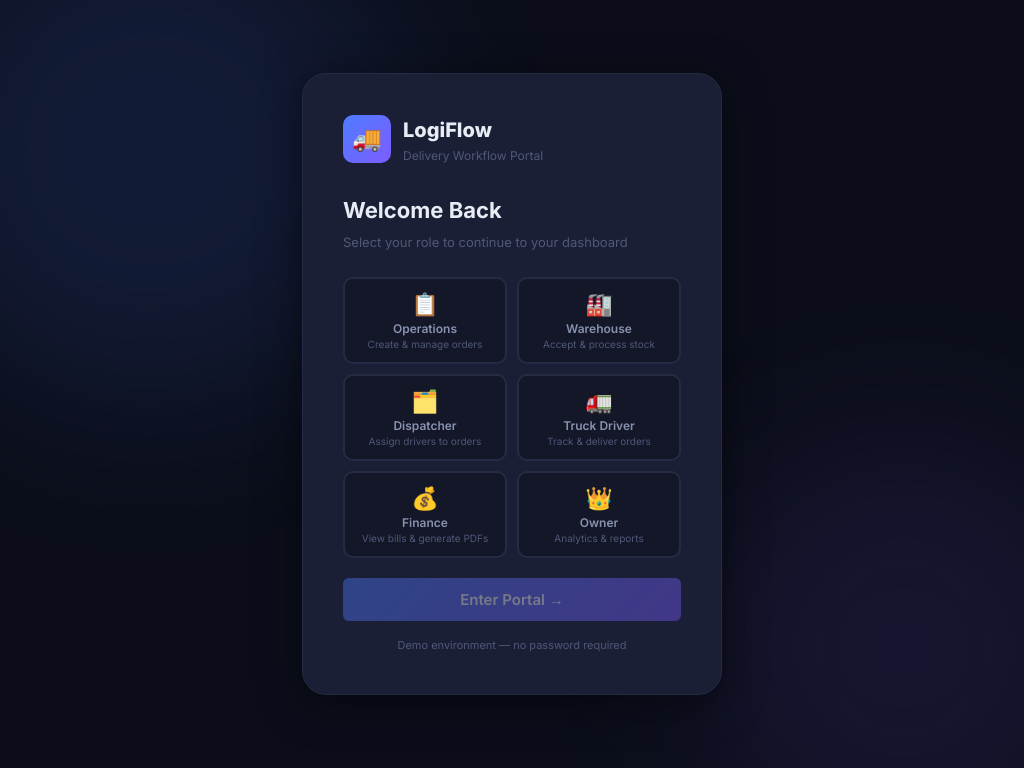
Test: Login Page › shows the matched demo user name after selecting a role
Click the button "🏭 Warehouse Accept & process stock". click: (599, 320)
box: [517, 277, 681, 364]
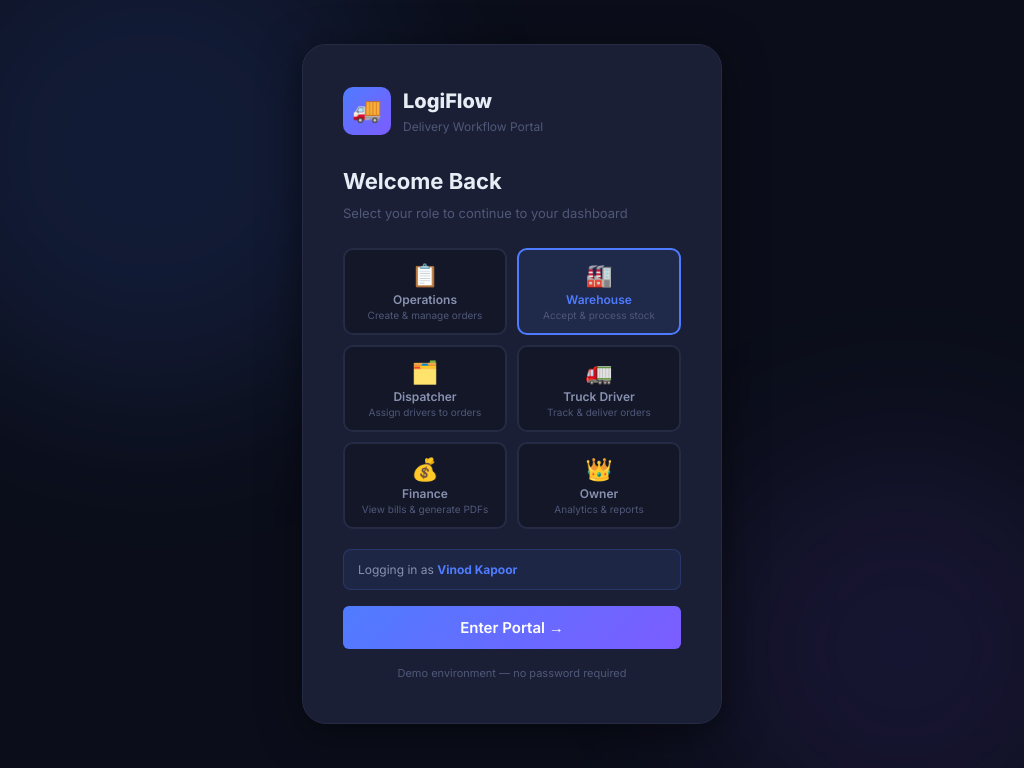
Result: the text "Vinod Kapoor" is shown at [437, 562, 518, 577]
